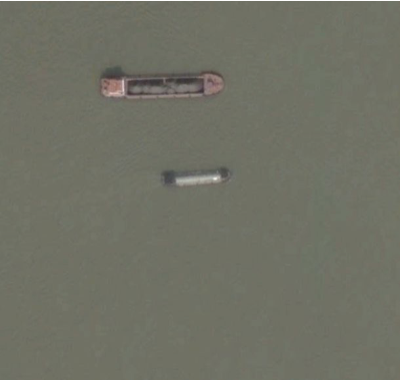boat: (98, 70, 227, 102), (158, 165, 233, 189)
